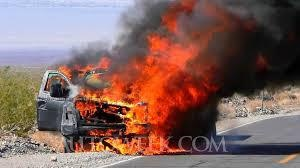fire: (52, 14, 222, 163)
